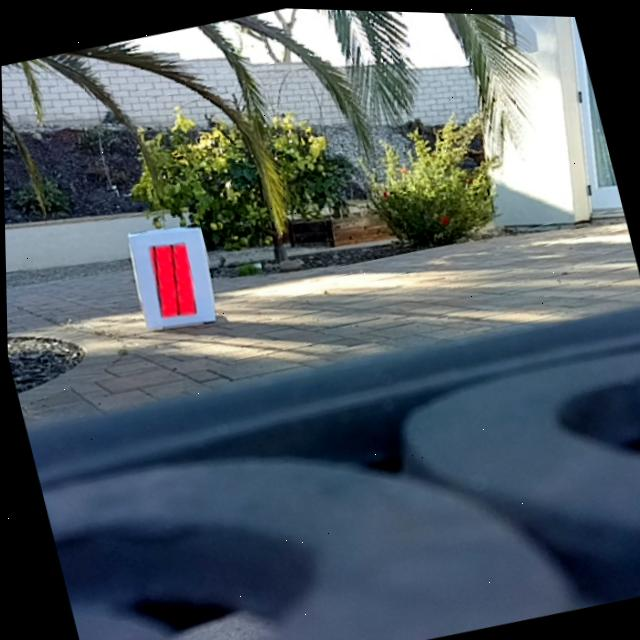led: (142, 235, 202, 324)
